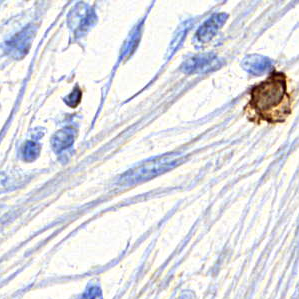Lymphocyte: (246, 69, 293, 126)
